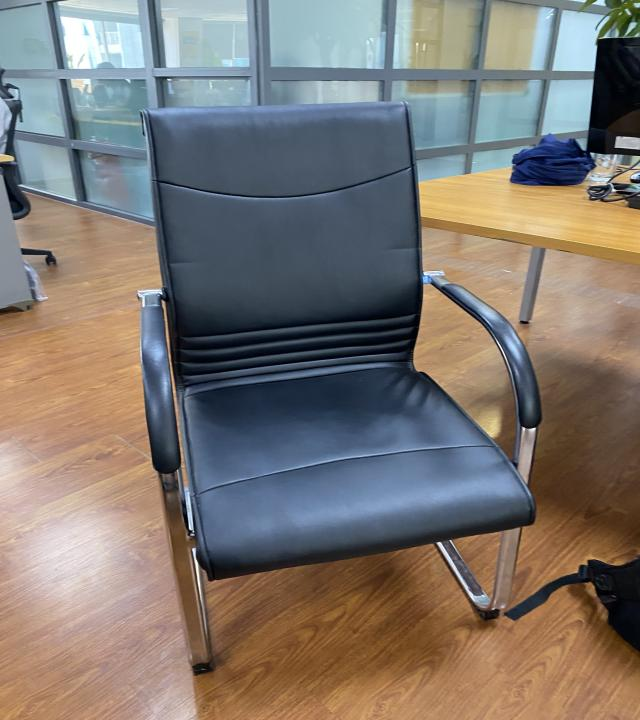SS_03: (132, 101, 547, 678)
